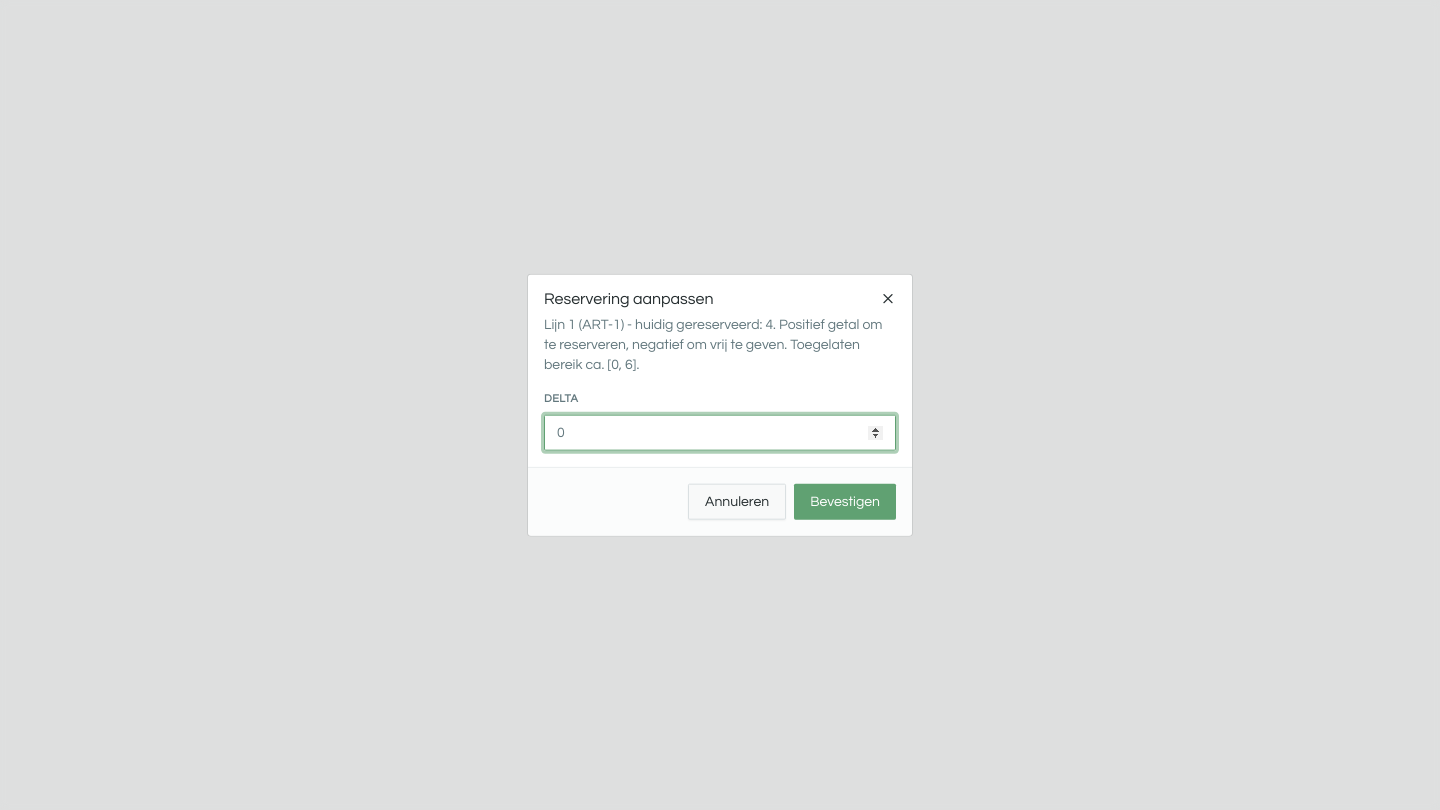
Test case: BonlijnReserveringDialog › surfaces the backend's exact error message on failure
Replace the text in the number field labelled "Delta" with "999". click: (720, 432)
box: 544,414 -> 896,450
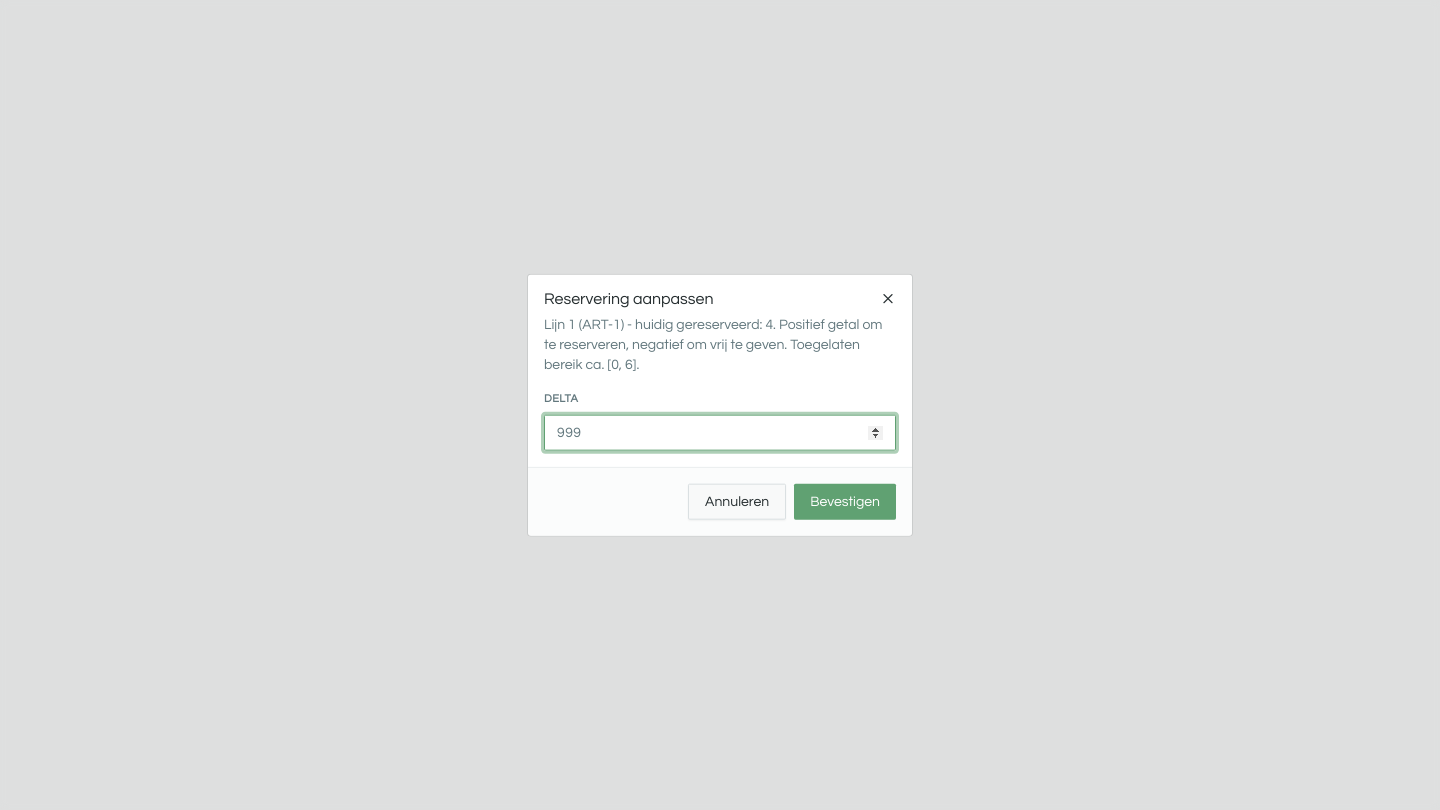
Click the button "Bevestigen". click: (845, 501)
box: 794,483 -> 896,519
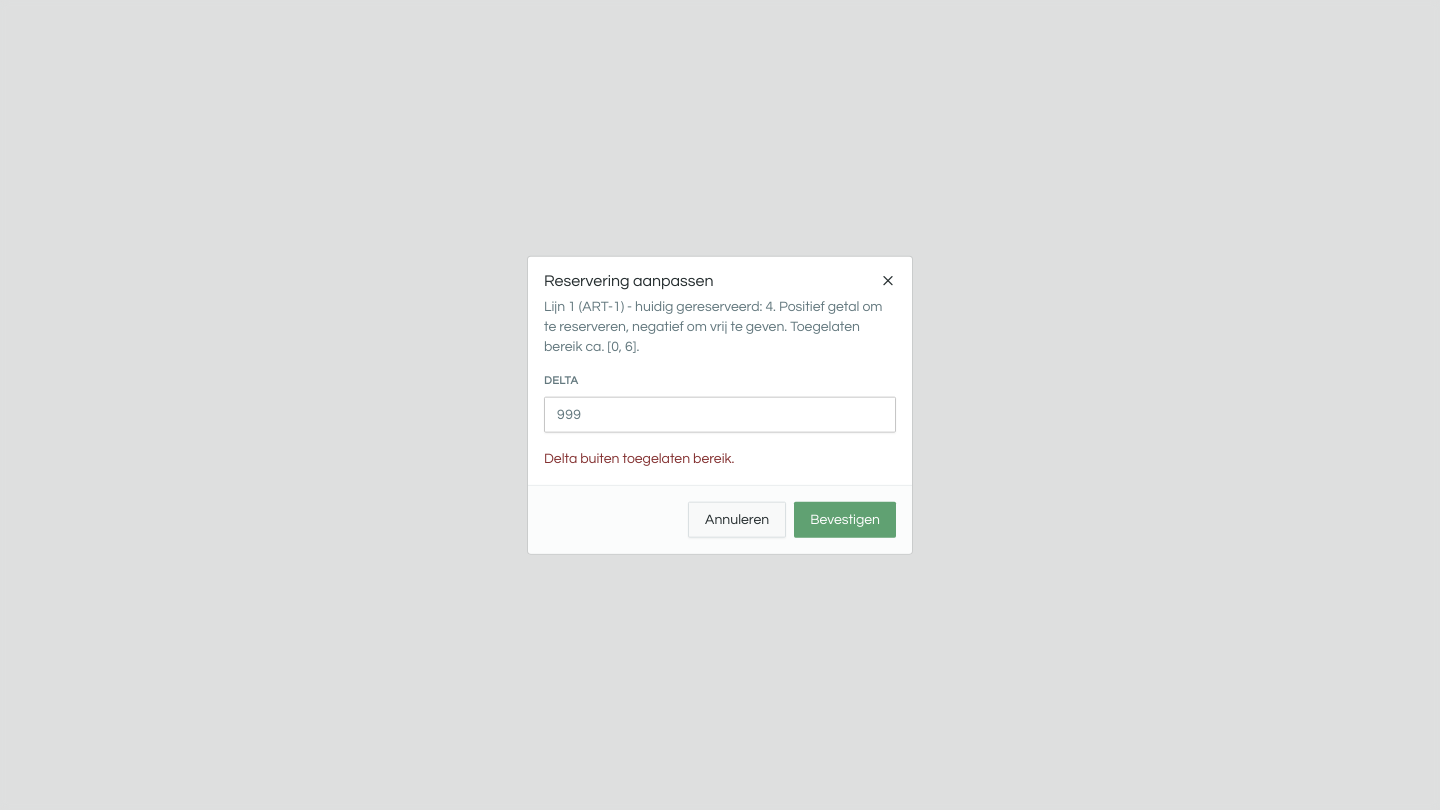
Expected: the text "Delta buiten toegelaten bereik." is shown, 544,451 -> 734,465
